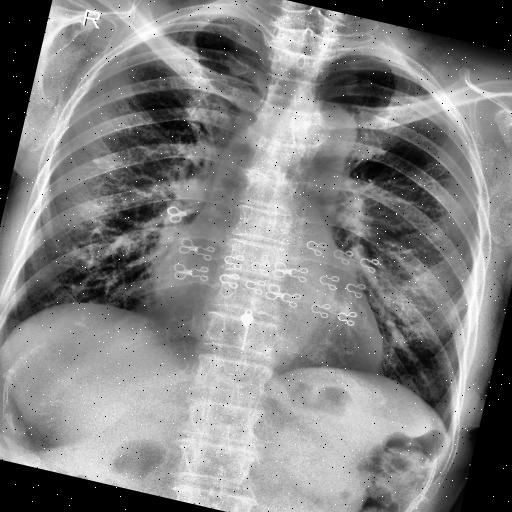0- Aortic enlargement: (268, 94, 364, 184), (286, 91, 361, 166), (283, 95, 363, 163)
